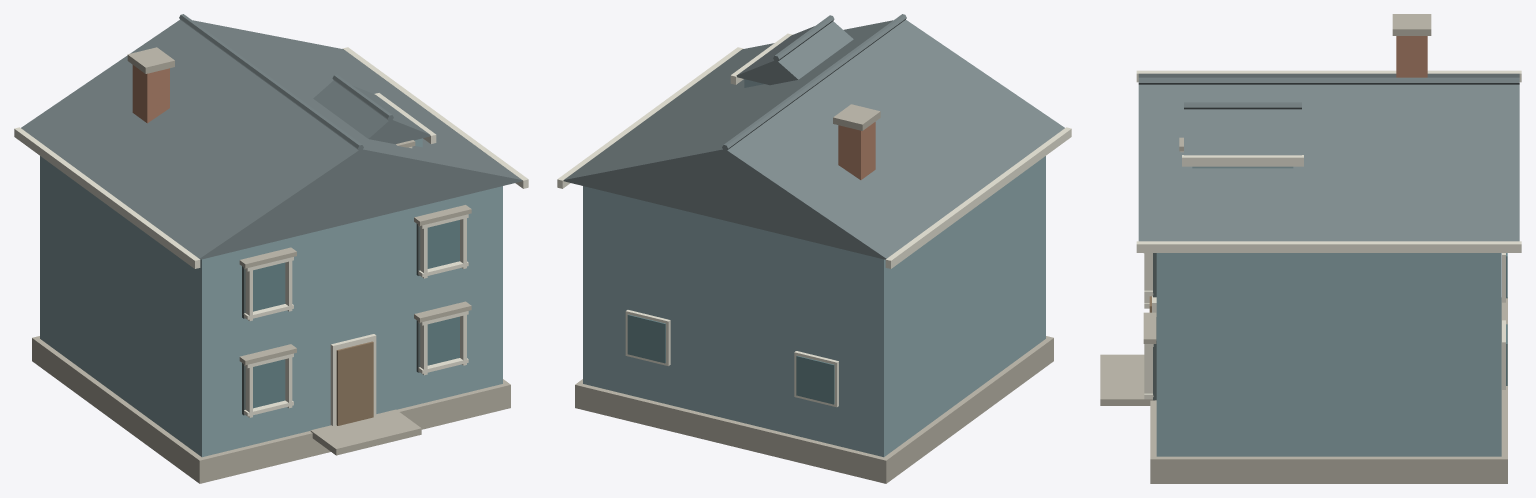
The picture shows the model from 3 angles, left to right: view 1: azimuth 30°, elevation 25°; view 2: azimuth 150°, elevation 25°; view 3: azimuth 270°, elevation 25°; orthographic projection. The views are drawn at different scales.
Size of the model in its own units: 9.76 by 8.9 by 10.01.
